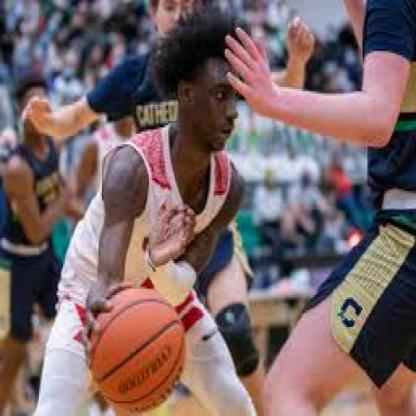basketball: (88, 287, 190, 414)
